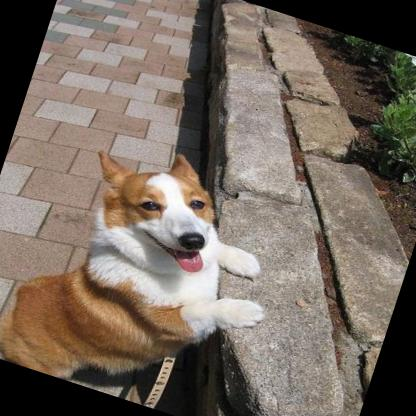Pembroke: (0, 112, 306, 416)
